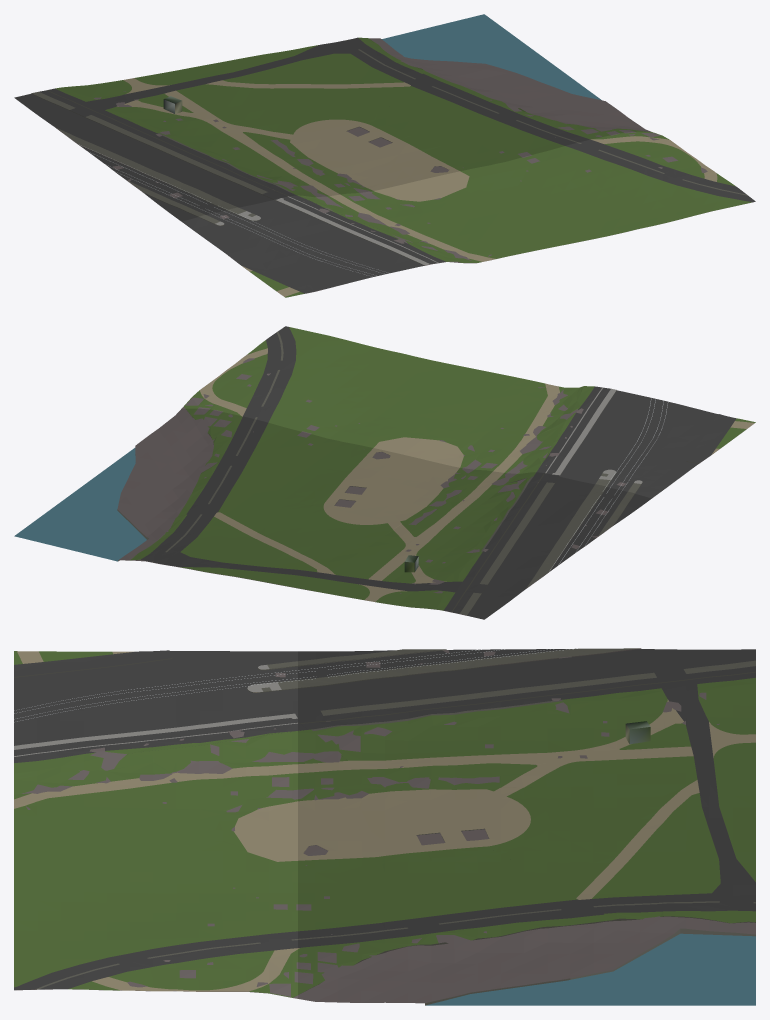
3 renders of one model, top to bottom at view 1: azimuth 30°, elevation 25°; view 2: azimuth 150°, elevation 25°; view 3: azimuth 270°, elevation 25°, orthographic. The views are drawn at different scales.
Visible parts, largest first — view 1: append:c_m10_m08, c_m10_m08; view 2: append:c_m10_m08, c_m10_m08; view 3: append:c_m10_m08, c_m10_m08.
Boxes of the visible parts, x1,y1,x2,y2 form: append:c_m10_m08: [14, 14, 651, 221]; c_m10_m08: [79, 131, 755, 297]; append:c_m10_m08: [14, 408, 651, 619]; c_m10_m08: [117, 326, 755, 571]; append:c_m10_m08: [298, 648, 755, 1005]; c_m10_m08: [14, 648, 755, 1005].
Bounding box in the file's own units: 128 × 8.38 × 128.
